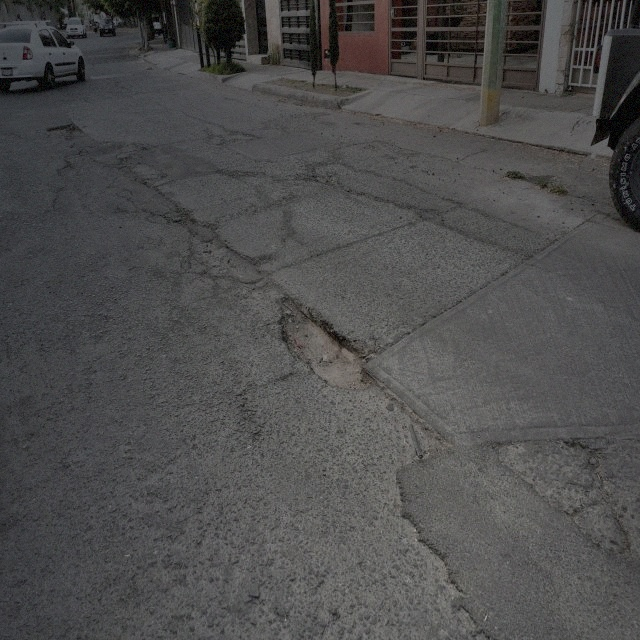pothole: (277, 289, 379, 392), (179, 205, 204, 238), (48, 120, 86, 138)
